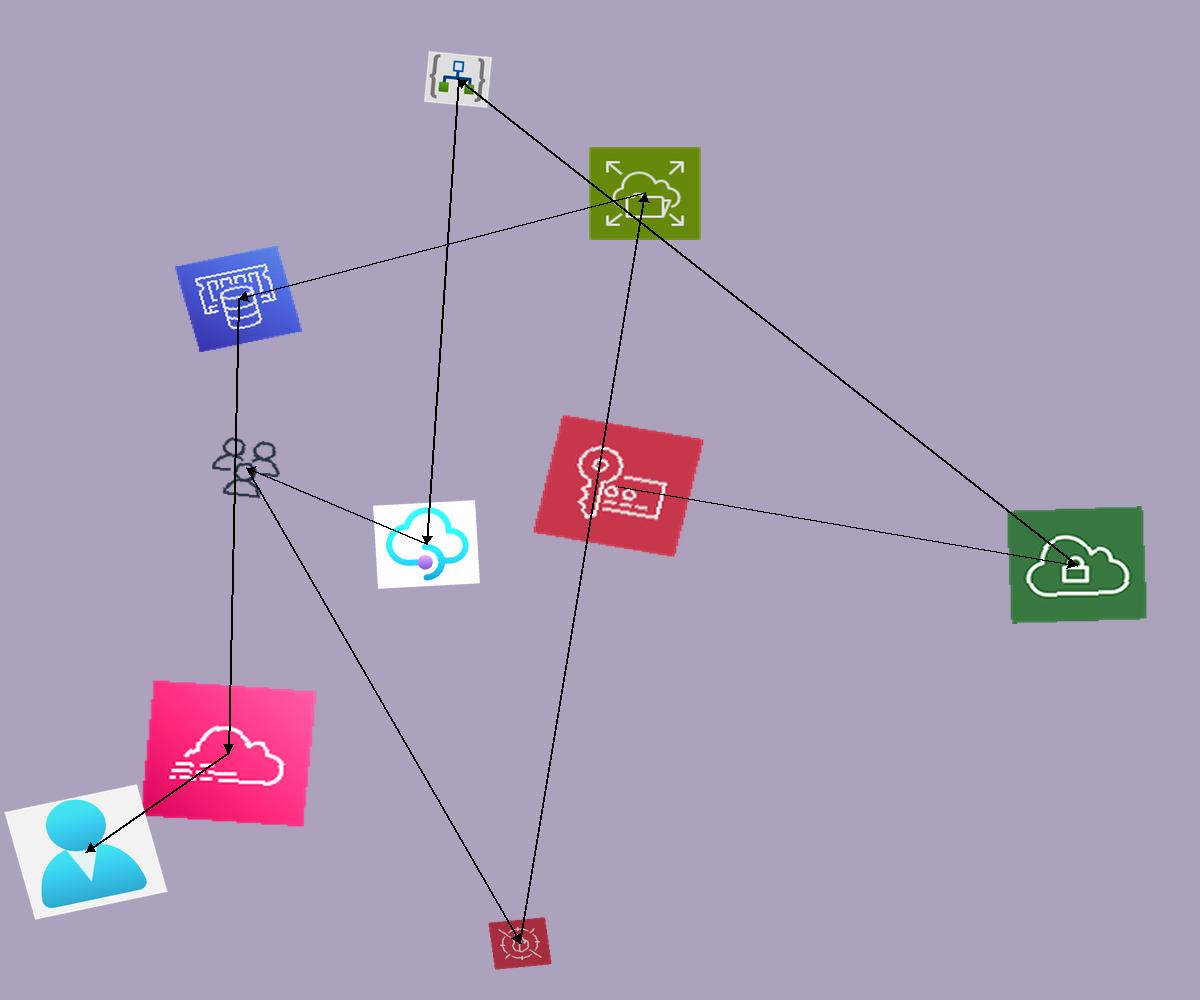AWS-CloudTrail: (139, 679, 318, 828)
AWS-EFS: (588, 146, 702, 241)
AWS-ElastiCache: (174, 245, 303, 353)
AWS-Key-Management-Service: (532, 414, 705, 558)
AWS-Private_vpc: (1006, 506, 1148, 624)
AWS-Res_Users: (203, 432, 289, 504)
AWS-WAF: (488, 917, 552, 970)
Azure_api_gateway: (373, 500, 480, 589)
Azure_integration-204-Logic-Apps: (424, 51, 492, 108)
Azure_users: (4, 784, 168, 920)
